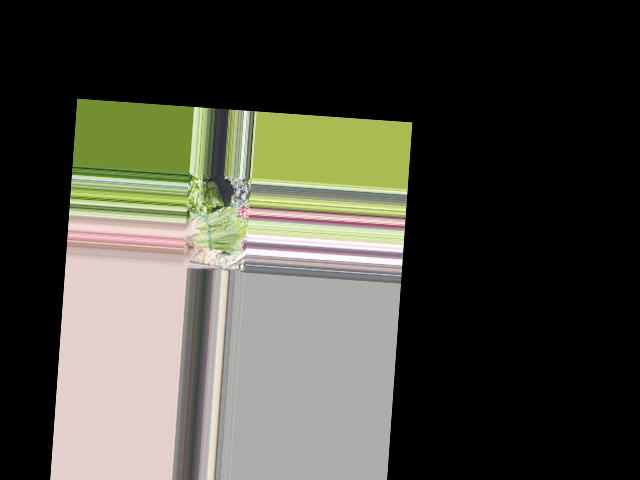lettuce: (182, 203, 245, 254)
